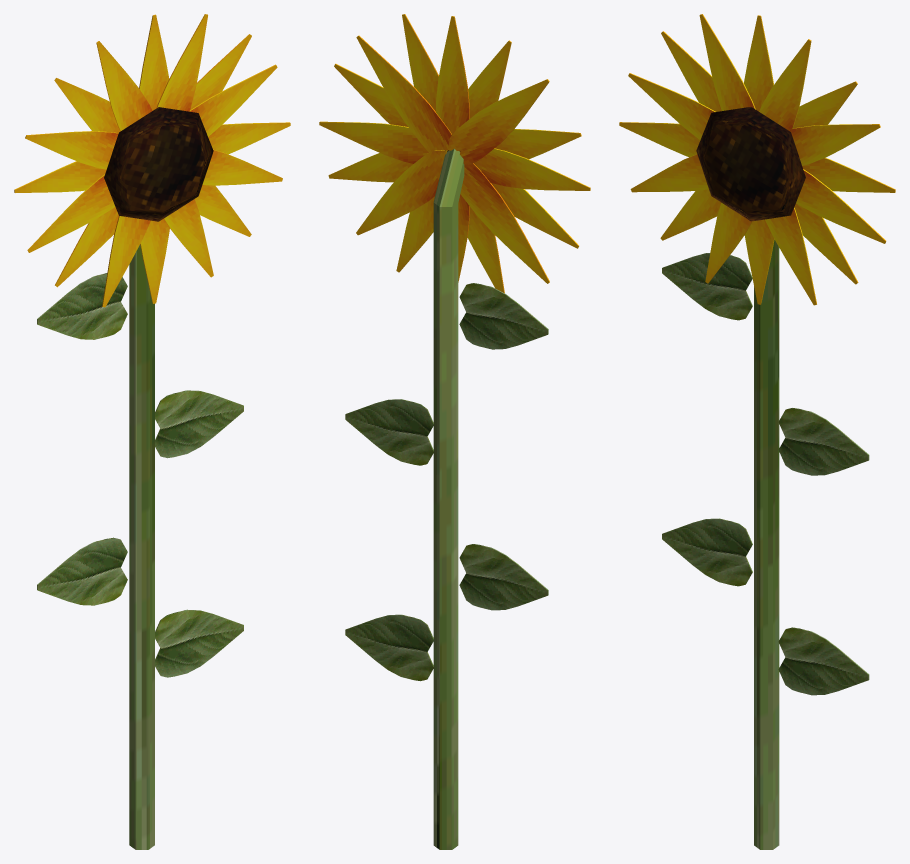
The model's file is Sunflower.fbx.
3 renders of one model, left to right at view 1: azimuth 30°, elevation 25°; view 2: azimuth 150°, elevation 25°; view 3: azimuth 330°, elevation 25°, orthographic.
Visible parts, largest first — view 1: Sunflower; view 2: Sunflower; view 3: Sunflower.
Part boxes in pixels (x1,y1,x2,y2): Sunflower: (14, 14, 290, 849); Sunflower: (319, 14, 590, 849); Sunflower: (619, 14, 895, 849).
Bounding box in the file's own units: 57.98 × 168 × 10.96.
